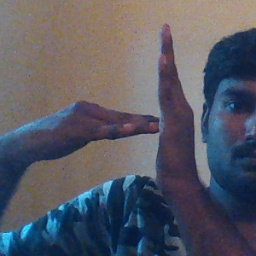Z: (88, 17, 202, 192)
